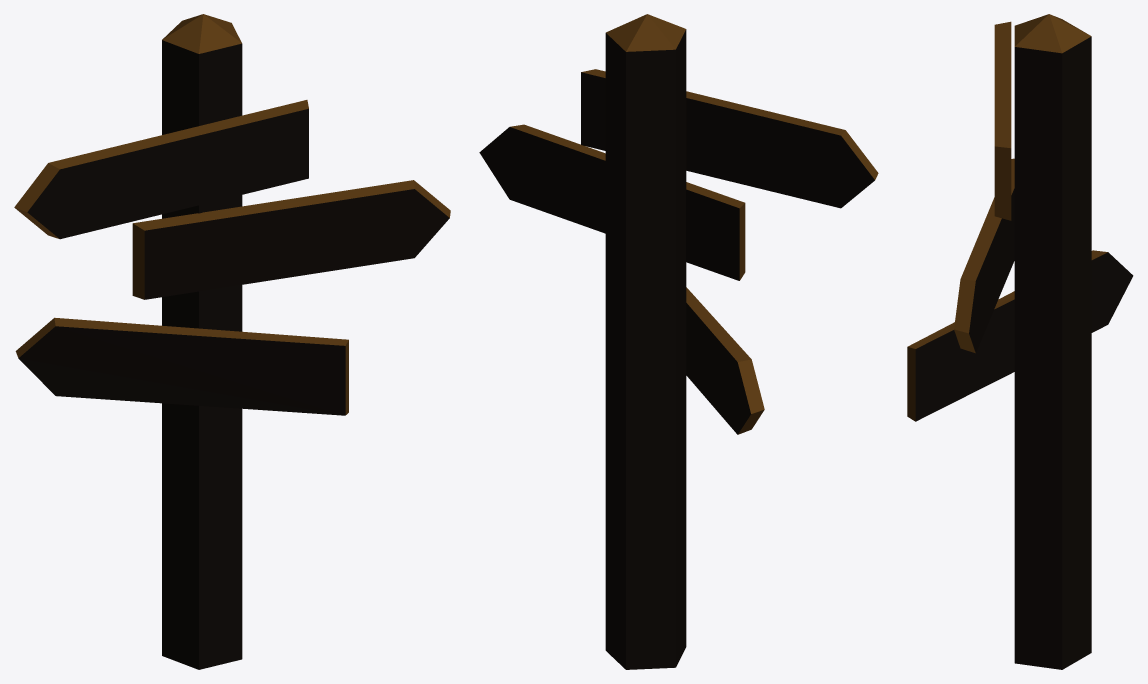
The model's file is Signpost_4.fbx.
3 views of the same model, side by side, from view 1: azimuth 30°, elevation 25°; view 2: azimuth 150°, elevation 25°; view 3: azimuth 270°, elevation 25° (orthographic).
Parts seen in each view (by area): view 1: Signpost_4; view 2: Signpost_4; view 3: Signpost_4.
Boxes of the visible parts, x1,y1,x2,y2 form: Signpost_4: [14, 14, 450, 669]; Signpost_4: [479, 14, 878, 669]; Signpost_4: [907, 14, 1133, 669].
Size of the model in its own units: 147 by 216 by 69.38.
